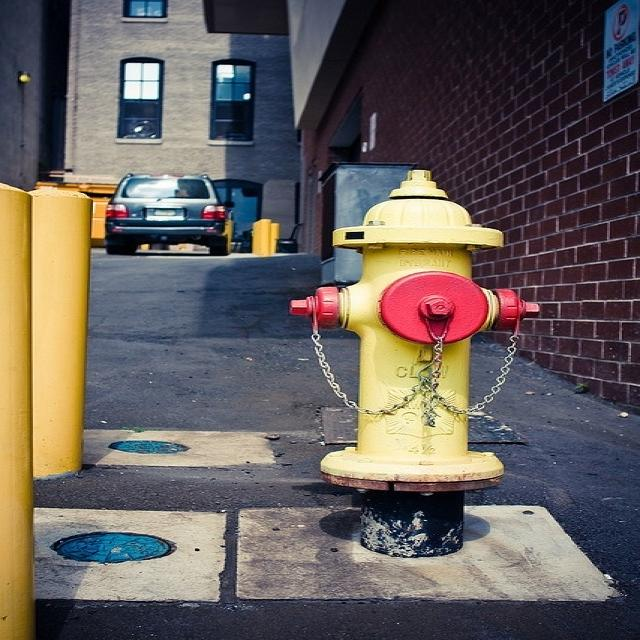fire_hydrant: (248, 160, 554, 556)
